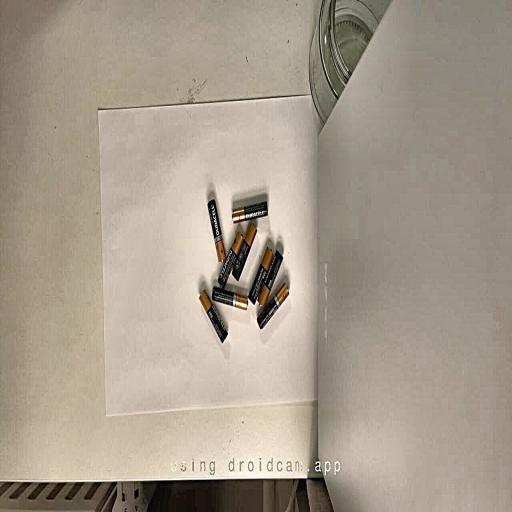DuracellAAA: (199, 289, 227, 342), (257, 283, 289, 329), (232, 224, 257, 281), (248, 247, 273, 304), (218, 232, 243, 287), (258, 251, 283, 306), (208, 199, 226, 261), (212, 286, 248, 310), (232, 201, 268, 223)
